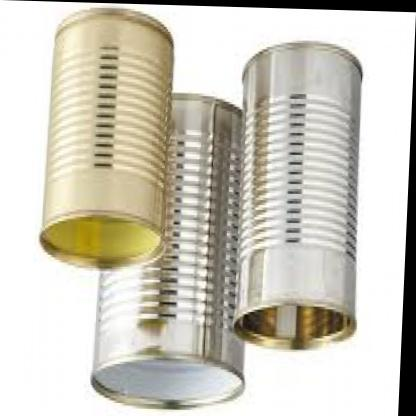Metal: (84, 73, 246, 407), (234, 35, 382, 354), (31, 1, 179, 284)
